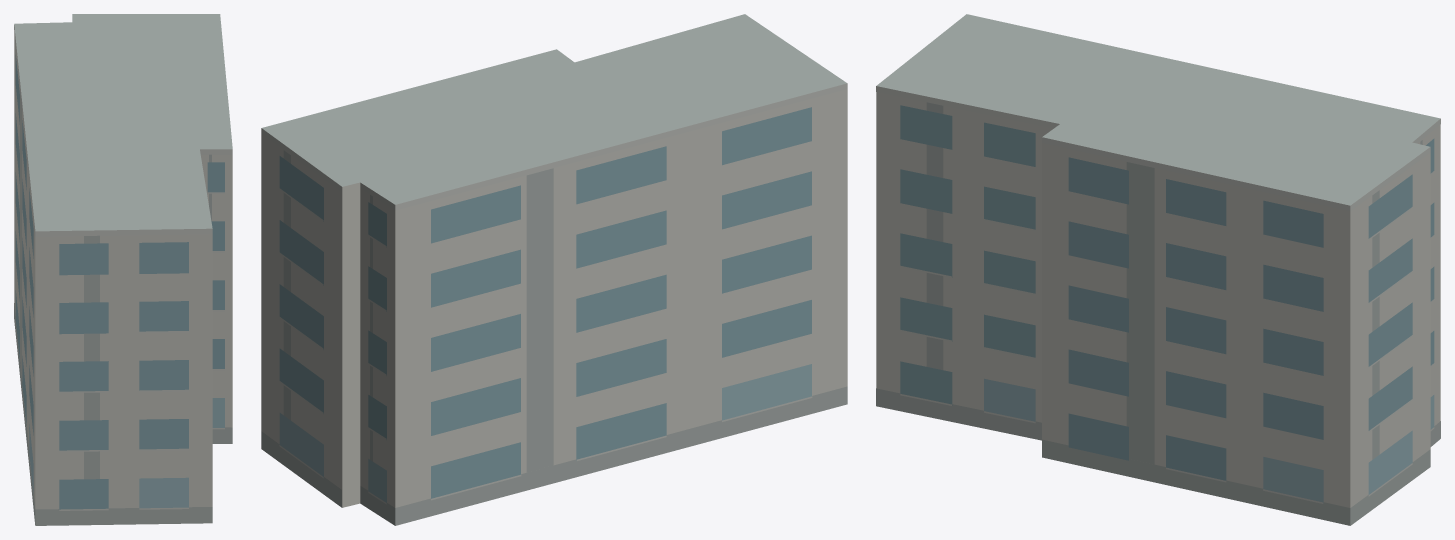
File: survey-upis-32970648.glb
3 views of the same model, side by side, from view 1: azimuth 30°, elevation 25°; view 2: azimuth 150°, elevation 25°; view 3: azimuth 270°, elevation 25° (orthographic). The views are drawn at different scales.
Visible parts, largest first — view 1: survey-upis-32970648.tmp; view 2: survey-upis-32970648.tmp; view 3: survey-upis-32970648.tmp.
Part boxes in pixels (x1,y1,x2,y2): survey-upis-32970648.tmp: (14,14,232,525); survey-upis-32970648.tmp: (261,14,847,525); survey-upis-32970648.tmp: (876,14,1440,525).
Bounding box in the file's own units: 17.08 × 13.3 × 21.26.
